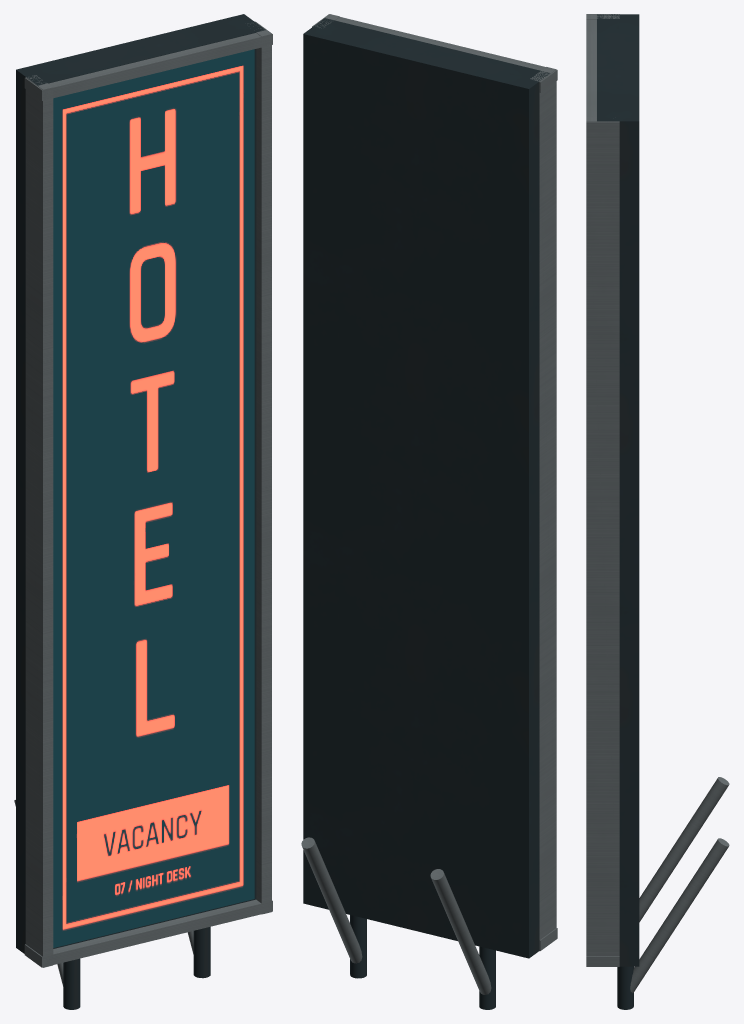
The model's file is NC_Sign_blade_LOD1.fbx.
3 views of the same model, side by side, from view 1: azimuth 30°, elevation 25°; view 2: azimuth 150°, elevation 25°; view 3: azimuth 270°, elevation 25° (orthographic). The views are drawn at different scales.
Parts seen in each view (by area): view 1: NC_Sign_blade_LOD1; view 2: NC_Sign_blade_LOD1; view 3: NC_Sign_blade_LOD1.
Boxes of the visible parts, x1,y1,x2,y2 form: NC_Sign_blade_LOD1: (14, 14, 272, 1009); NC_Sign_blade_LOD1: (301, 14, 557, 1009); NC_Sign_blade_LOD1: (586, 14, 729, 1009).
Bounding box in the file's own units: 170 × 664 × 94.87.
